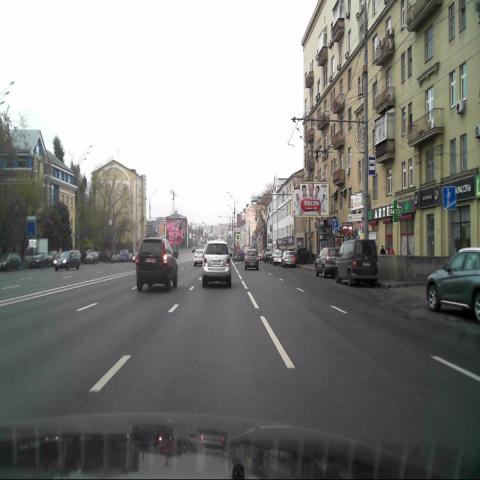6_6: (442, 185, 456, 210)
